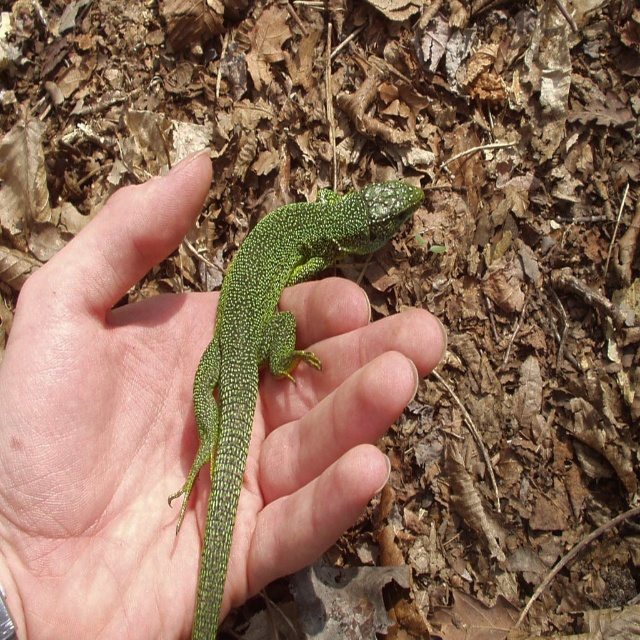Lizard: (169, 180, 382, 612)
